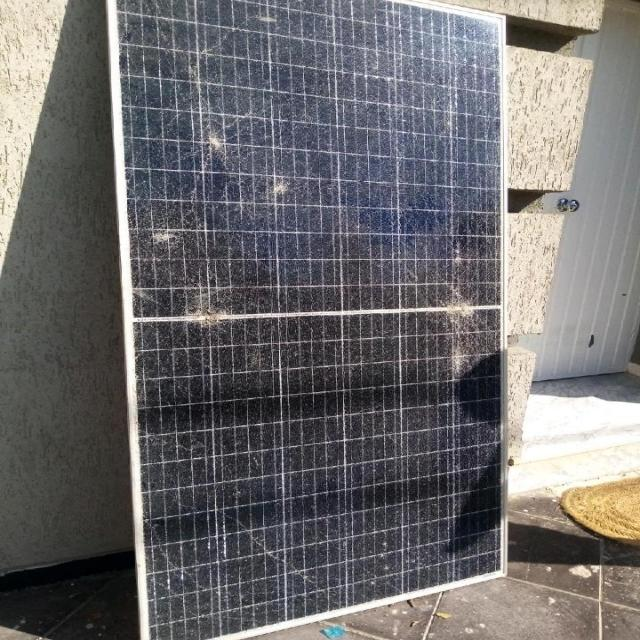faulty: (113, 3, 504, 617)
